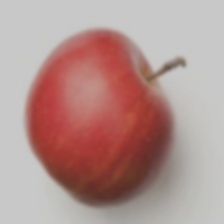apple: (66, 17, 200, 209)
